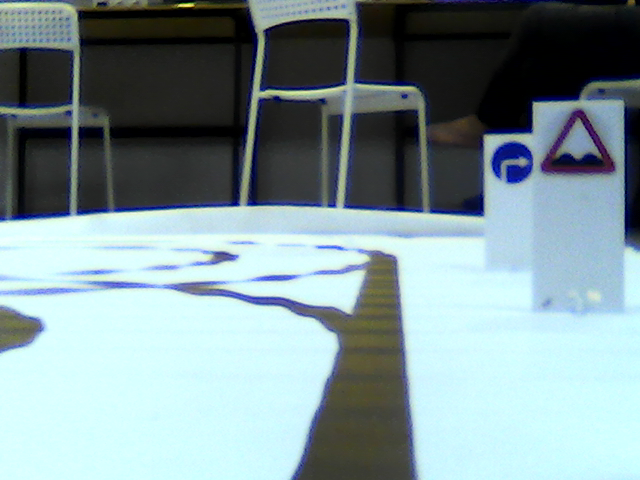Nerov: (540, 110, 615, 175)
Right: (491, 140, 532, 183)
